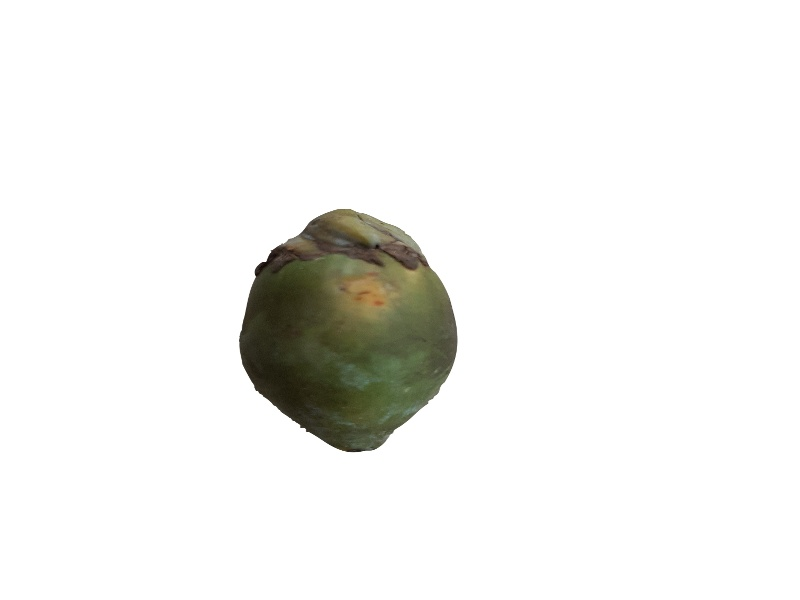arecanut: (230, 199, 467, 458)
